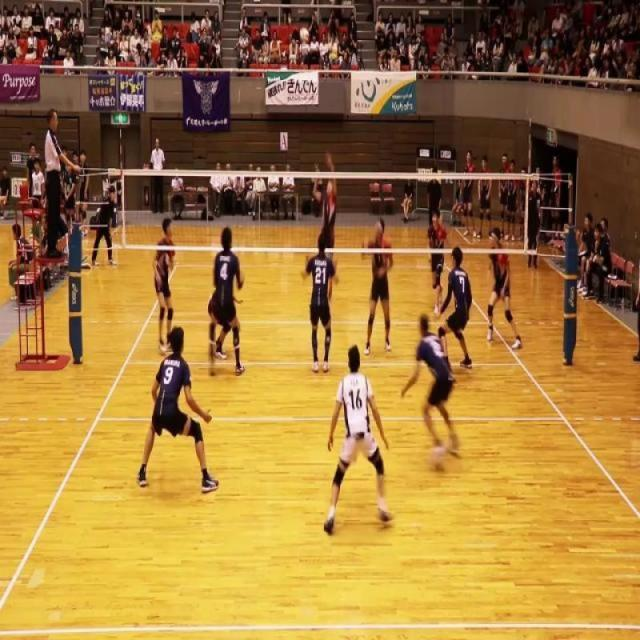volleyball: (299, 26, 310, 44)
